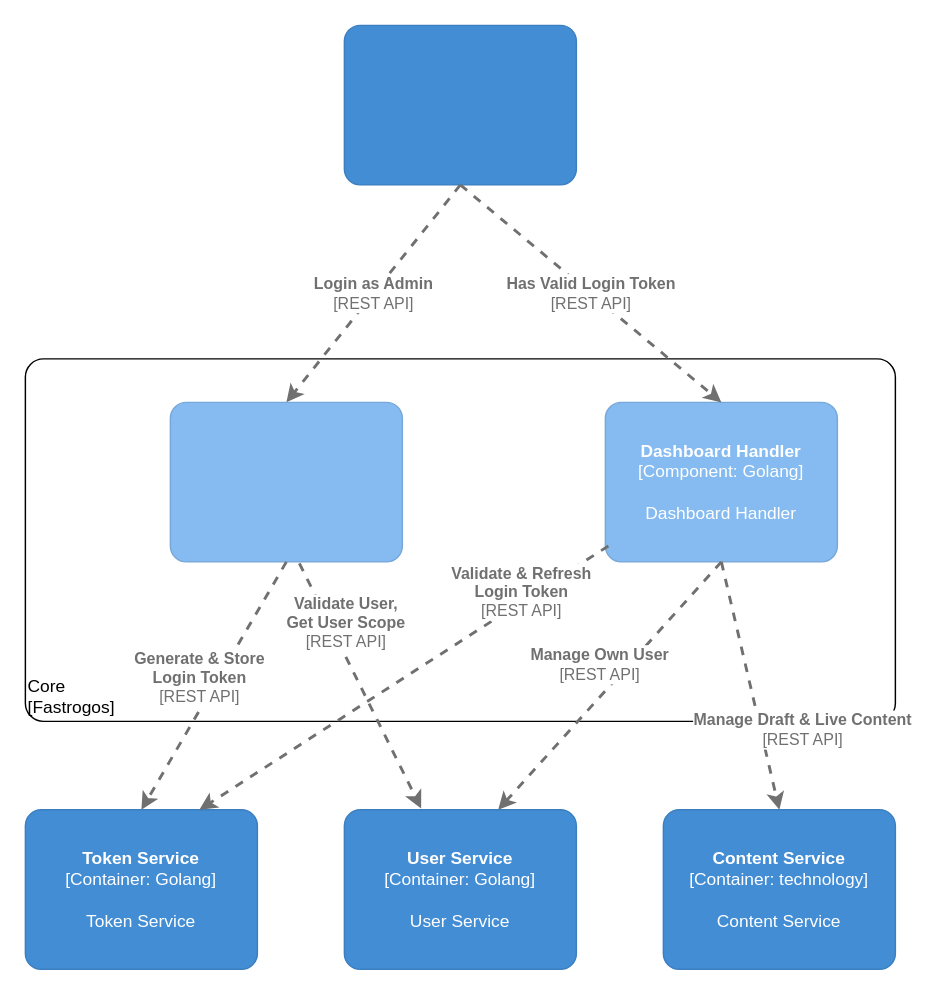
Some shapes in this 937 by 995 pixel diagram are drawn without their labels. Each missing label, with the centre of its shape:
"Editor Dashboard Web App [Container: Golang, HTML, CSS, JS] GUI for Editor" goes at pixel 459 104.
"Login Handler [Component: Golang] Login Handler for all kind of User" goes at pixel 285 481.
